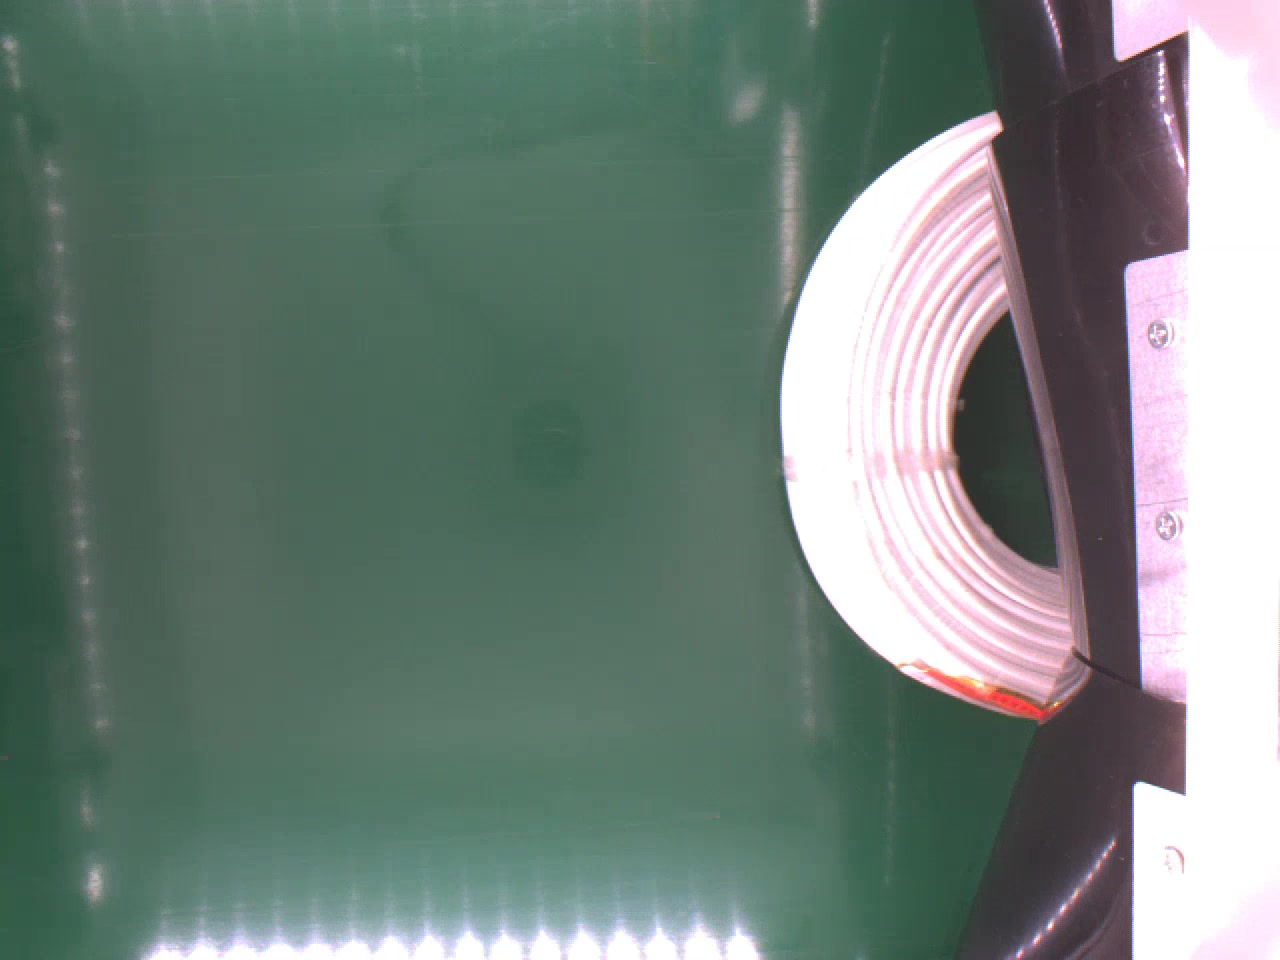white: (779, 106, 1087, 719)
